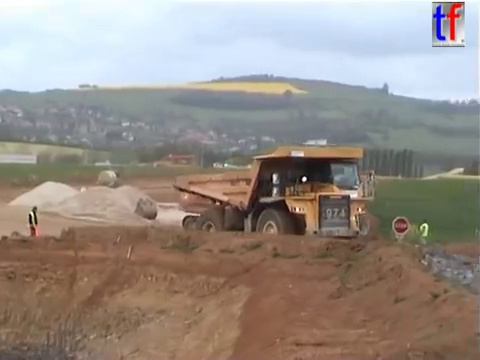excavator: (176, 152, 371, 241)
truck: (171, 144, 376, 256), (95, 169, 121, 190)
worker: (26, 203, 41, 242), (416, 215, 431, 249)
